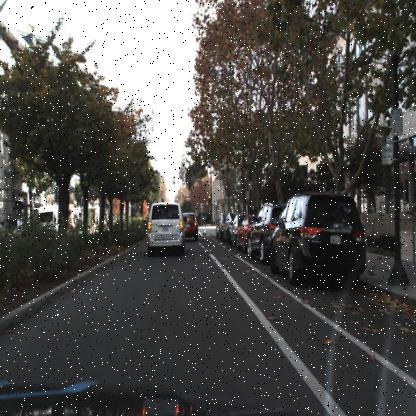car: (267, 189, 370, 288), (268, 187, 367, 290), (143, 190, 192, 260), (249, 203, 286, 263), (245, 200, 280, 260), (35, 202, 63, 239), (177, 205, 201, 239), (36, 203, 62, 234), (236, 214, 256, 253), (234, 215, 252, 251), (0, 216, 27, 237), (219, 209, 234, 244), (228, 214, 242, 246), (221, 214, 232, 247), (213, 213, 226, 240)
trafficLight-Red: (207, 192, 213, 204), (160, 194, 167, 202)
